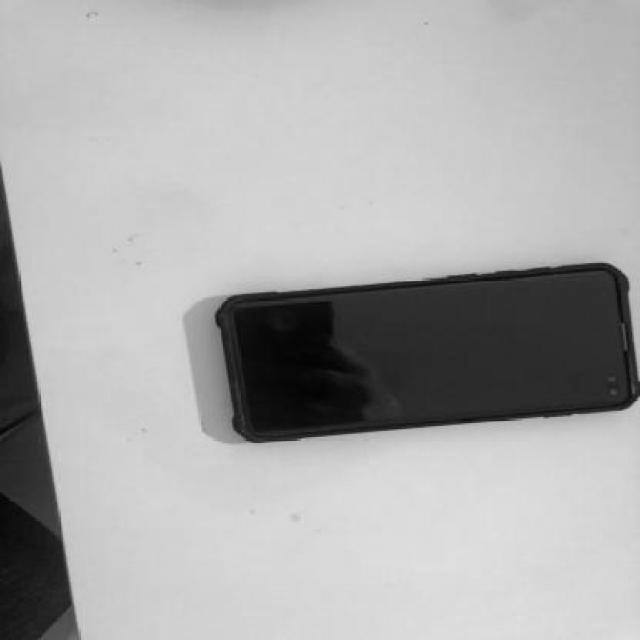fake: (216, 260, 639, 446)
